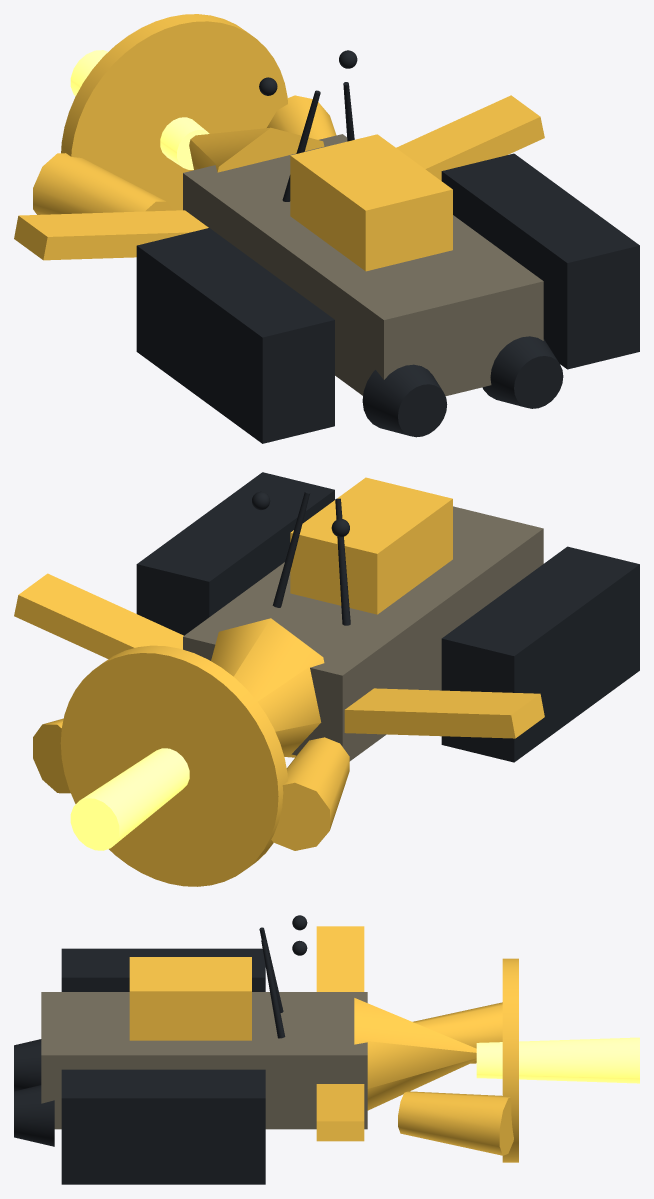
The model's file is prospector-rig.glb.
3 renders of one model, top to bottom at view 1: azimuth 30°, elevation 25°; view 2: azimuth 150°, elevation 25°; view 3: azimuth 270°, elevation 25°, orthographic. The views are drawn at different scales.
Parts seen in each view (by area): view 1: industrial mining spine, side ore canister -1, forward ore scanner ring, side ore canister 1, yellow dorsal refinery block, mining stabilizer arm -1, mining stabilizer arm 1, rotary drill head -1, dust clogged nozzle -1, dust clogged nozzle 1, armored mining prow, center mining emitter (+2 smaller); view 2: forward ore scanner ring, industrial mining spine, side ore canister -1, side ore canister 1, yellow dorsal refinery block, mining stabilizer arm -1, armored mining prow, mining stabilizer arm 1, center mining emitter, rotary drill head -1, rotary drill head 1, thin comm mast 1 (+1 smaller); view 3: side ore canister 1, industrial mining spine, yellow dorsal refinery block, armored mining prow, center mining emitter, rotary drill head 1, side ore canister -1, mining stabilizer arm -1, forward ore scanner ring, mining stabilizer arm 1, rotary drill head -1, dust clogged nozzle 1 (+2 smaller).
Boxes of the visible parts, x1,y1,x2,y2 form: industrial mining spine: [183, 134, 543, 396]; side ore canister -1: [136, 228, 334, 443]; forward ore scanner ring: [61, 14, 287, 210]; side ore canister 1: [441, 153, 639, 369]; yellow dorsal refinery block: [290, 134, 452, 271]; mining stabilizer arm -1: [14, 210, 208, 260]; mining stabilizer arm 1: [396, 95, 544, 180]; rotary drill head -1: [33, 153, 172, 214]; dust clogged nozzle -1: [362, 364, 447, 437]; dust clogged nozzle 1: [482, 336, 563, 408]; armored mining prow: [189, 127, 324, 172]; center mining emitter: [70, 50, 209, 169]; forward ore scanner ring: [60, 645, 287, 886]; industrial mining spine: [183, 506, 543, 761]; side ore canister -1: [441, 546, 639, 762]; side ore canister 1: [136, 472, 334, 635]; yellow dorsal refinery block: [290, 477, 452, 614]; mining stabilizer arm -1: [344, 688, 544, 738]; armored mining prow: [211, 618, 324, 757]; mining stabilizer arm 1: [14, 573, 183, 658]; center mining emitter: [70, 748, 189, 850]; rotary drill head -1: [271, 737, 349, 850]; rotary drill head 1: [33, 718, 70, 793]; thin comm mast 1: [272, 491, 310, 607]; side ore canister 1: [61, 1069, 265, 1184]; industrial mining spine: [41, 992, 367, 1129]; yellow dorsal refinery block: [129, 957, 251, 1040]; armored mining prow: [354, 998, 476, 1110]; center mining emitter: [476, 1037, 639, 1083]; rotary drill head 1: [398, 1091, 513, 1155]; side ore canister -1: [61, 948, 265, 991]; mining stabilizer arm -1: [316, 926, 364, 991]; forward ore scanner ring: [502, 958, 518, 1162]; mining stabilizer arm 1: [316, 1084, 364, 1141]; rotary drill head -1: [413, 1002, 502, 1063]; dust clogged nozzle 1: [14, 1085, 54, 1146].
Bounding box in the file's own units: 64.95 × 34.87 × 86.48.
